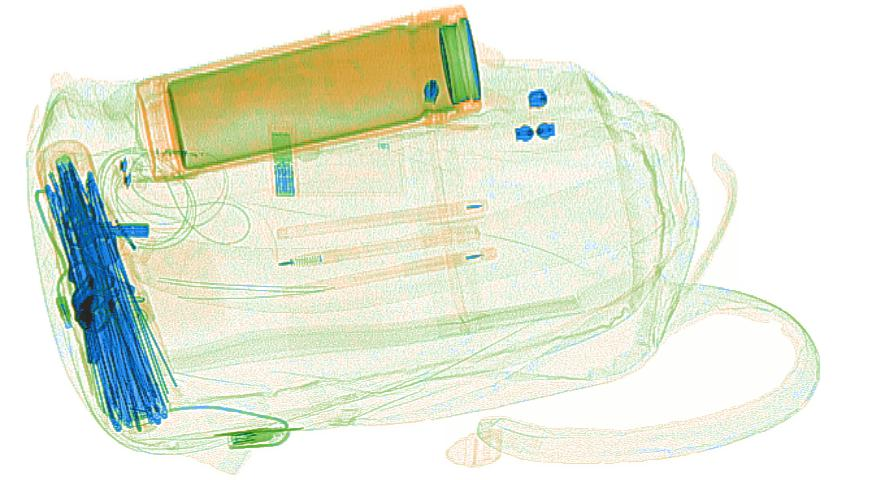USBFlashDisk: (268, 127, 298, 199)
